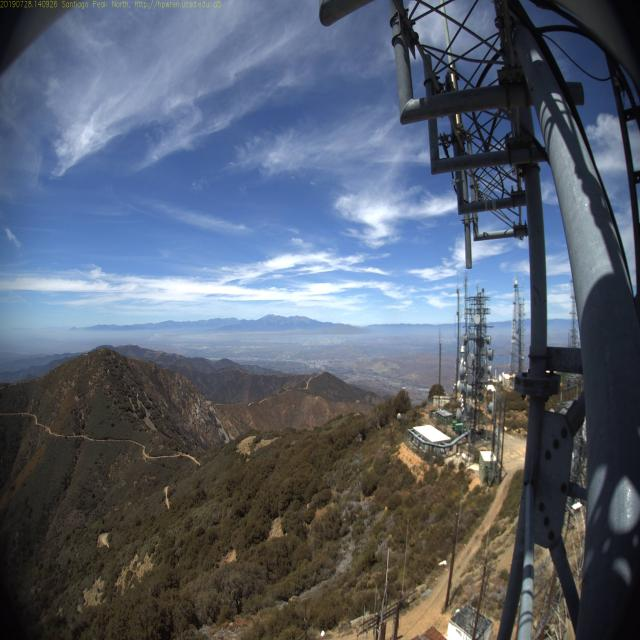smoke: (142, 327, 158, 344)
